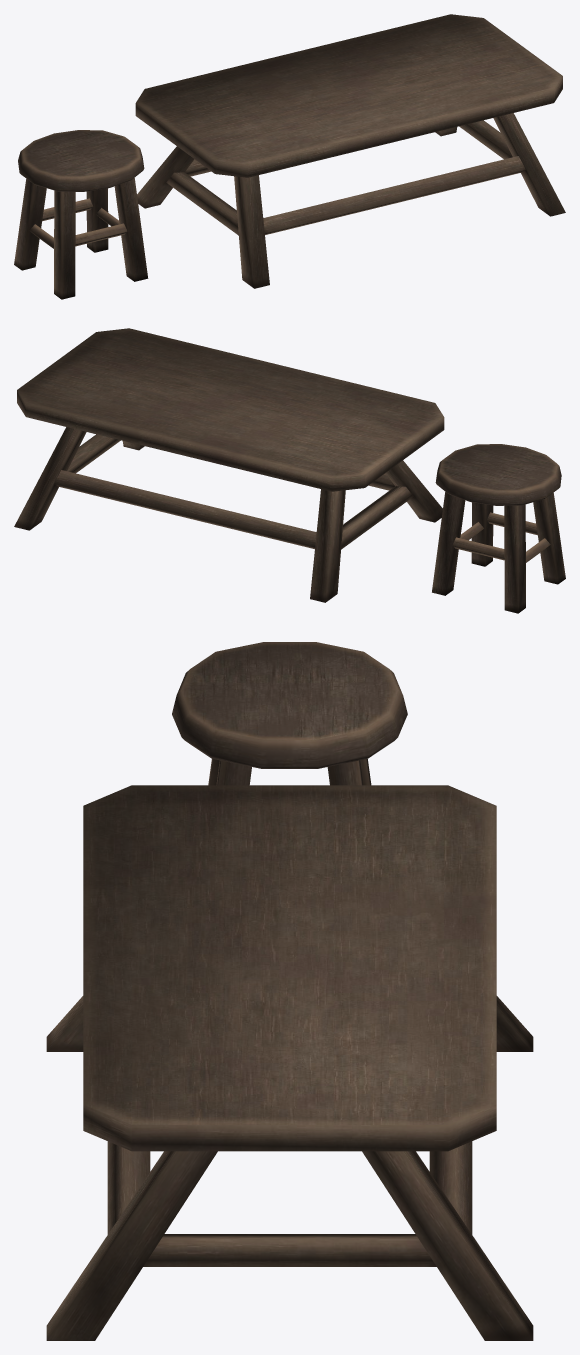
3 views of the same model, one above another, from view 1: azimuth 30°, elevation 25°; view 2: azimuth 150°, elevation 25°; view 3: azimuth 270°, elevation 25° (orthographic). The views are drawn at different scales.
Visible parts, largest first — view 1: Cube.002, Cylinder; view 2: Cube.002, Cylinder; view 3: Cube.002, Cylinder.
Boxes of the visible parts, x1,y1,x2,y2 form: Cube.002: (135, 14, 565, 288); Cylinder: (14, 130, 148, 299); Cube.002: (14, 328, 444, 602); Cylinder: (432, 444, 565, 613); Cube.002: (46, 785, 533, 1340); Cylinder: (172, 642, 407, 785).
Size of the model in its own units: 2.45 by 0.558 by 1.04.
2 materials, 2 textured.
